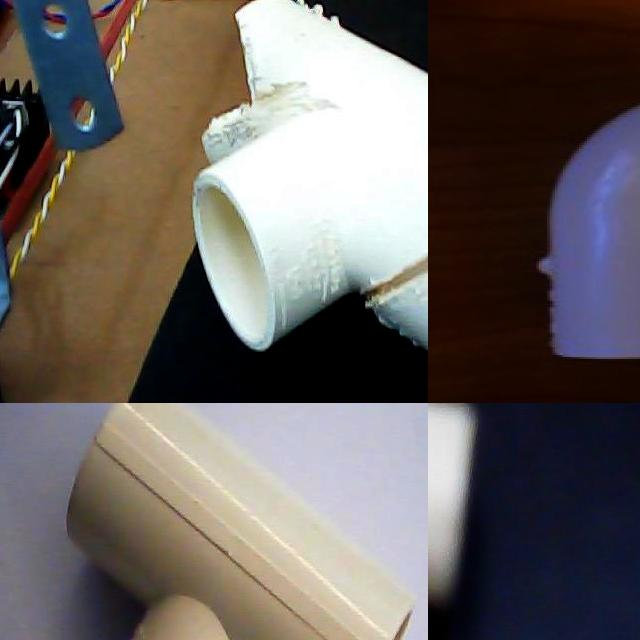Defective: (204, 12, 343, 172), (351, 221, 428, 340)
L Joint: (537, 104, 640, 362)
T Joint: (191, 0, 428, 354), (63, 403, 415, 640)
